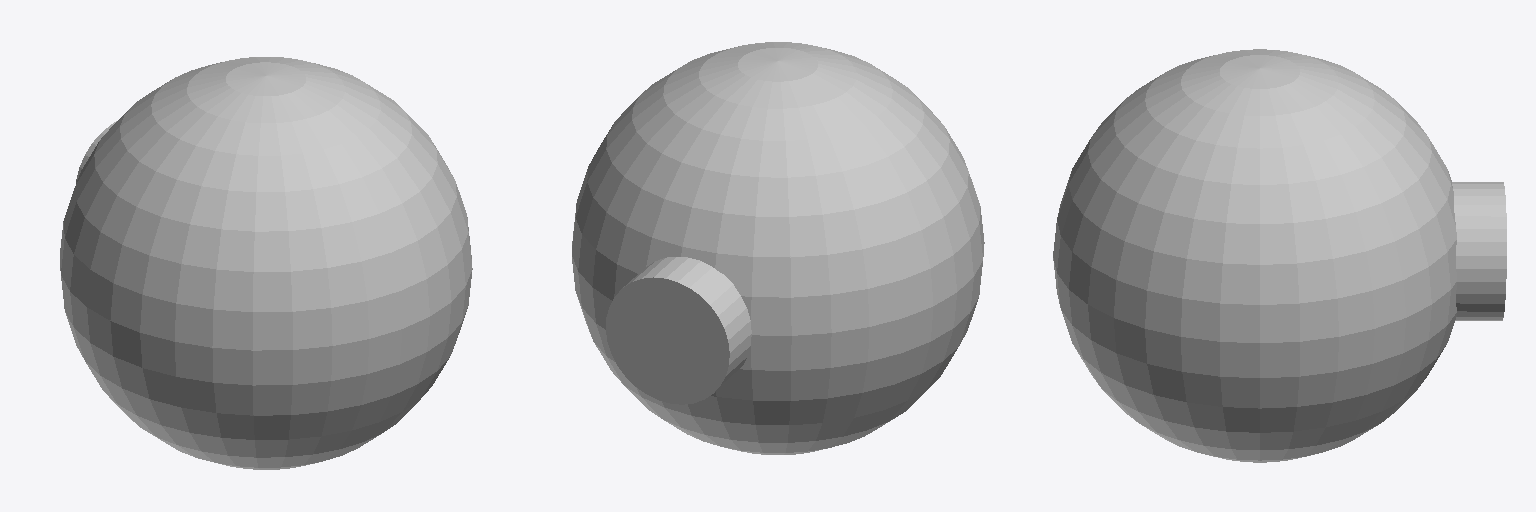
Rendered from eyeball.obj.
The picture shows the model from 3 angles: view 1: azimuth 30°, elevation 25°; view 2: azimuth 150°, elevation 25°; view 3: azimuth 270°, elevation 25°; orthographic projection.
Visible parts, largest first — view 1: Sphere; view 2: Sphere, Cylinder; view 3: Sphere, Cylinder.
Part boxes in pixels (bbox=[...]): Sphere: bbox=[60, 57, 472, 469]; Sphere: bbox=[572, 42, 984, 454]; Cylinder: bbox=[606, 257, 751, 404]; Sphere: bbox=[1053, 49, 1456, 462]; Cylinder: bbox=[1452, 182, 1506, 320].
Size of the model in its own units: 0.5 by 0.5 by 0.5485.